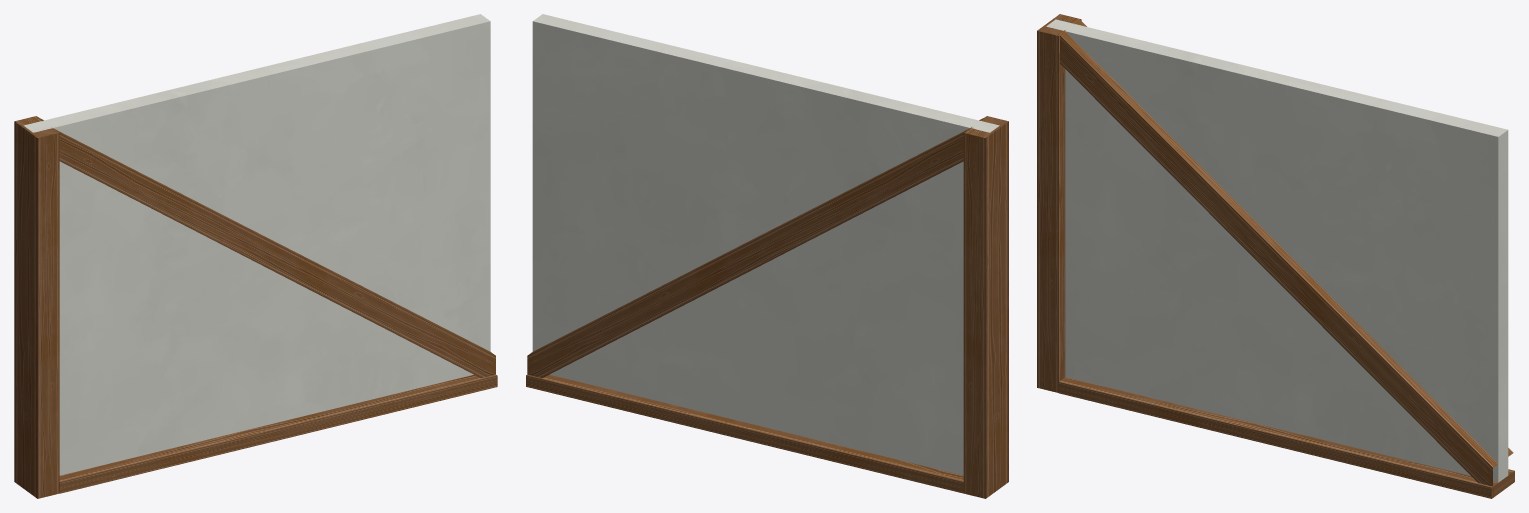
The model's file is SM_Large_Wall_02_wstone.glb.
3 renders of one model, left to right at view 1: azimuth 30°, elevation 25°; view 2: azimuth 150°, elevation 25°; view 3: azimuth 330°, elevation 25°, orthographic.
Parts seen in each view (by area): view 1: SM_Large_Wall_02; view 2: SM_Large_Wall_02; view 3: SM_Large_Wall_02.
Boxes of the visible parts, x1,y1,x2,y2 form: SM_Large_Wall_02: [14, 14, 497, 498]; SM_Large_Wall_02: [526, 14, 1008, 498]; SM_Large_Wall_02: [1037, 14, 1514, 498].
Size of the model in its own units: 4 by 3.01 by 0.3524.
Materials: 2 (2 with a texture image).
